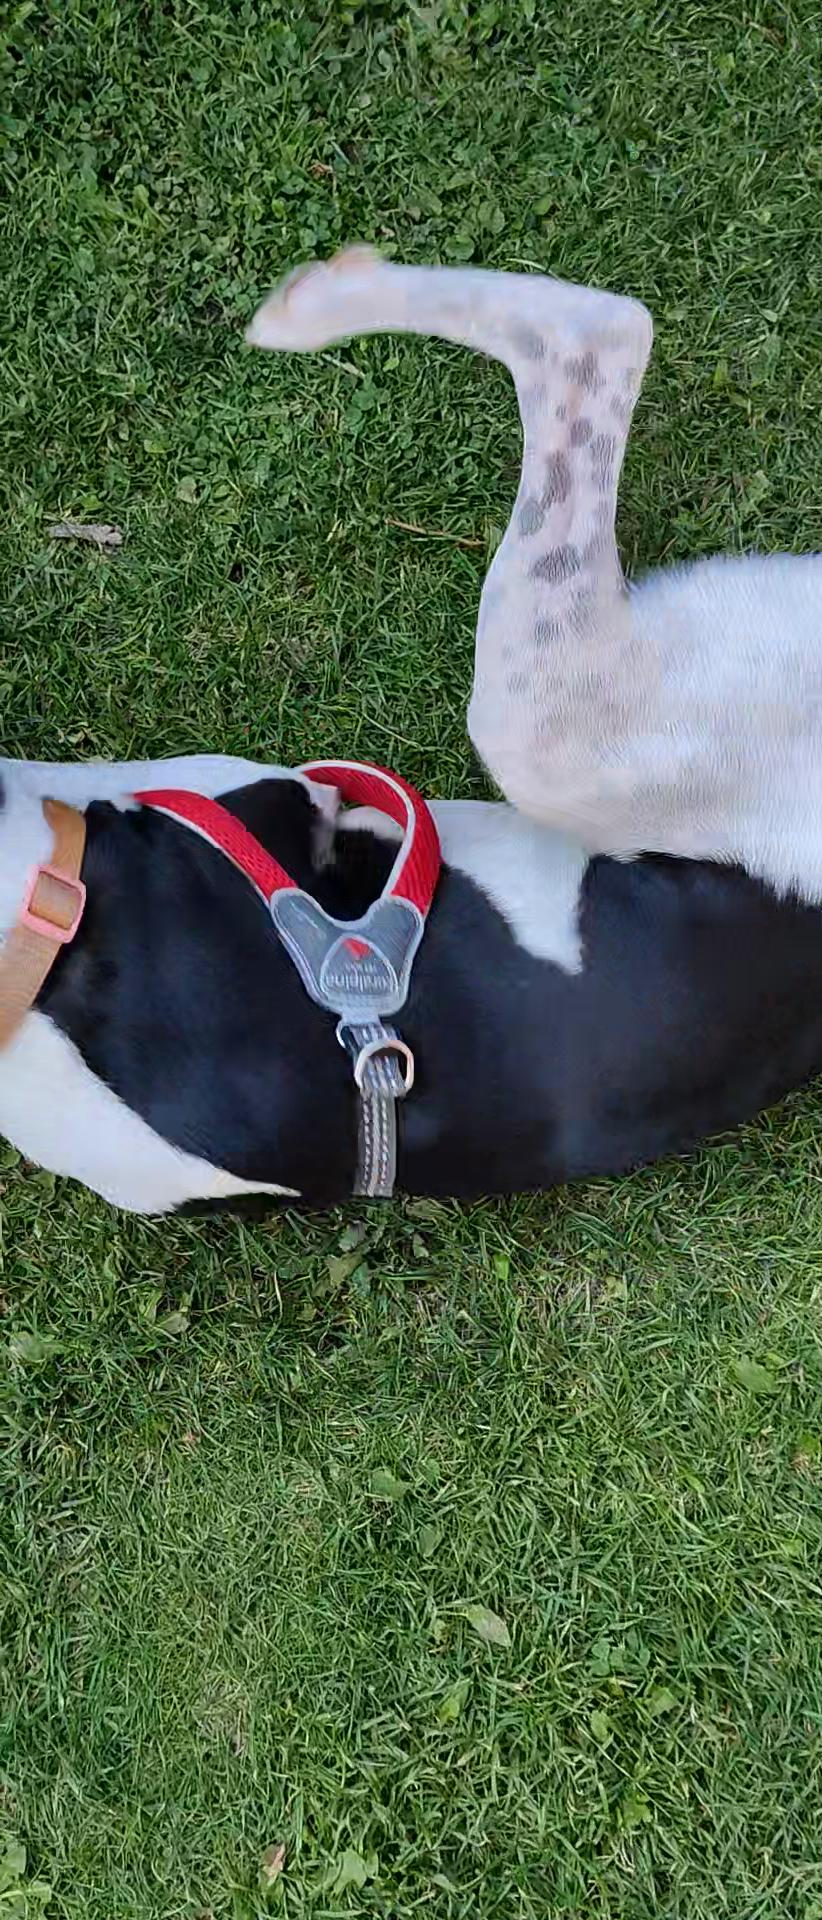Dog: (0, 225, 822, 1273)
